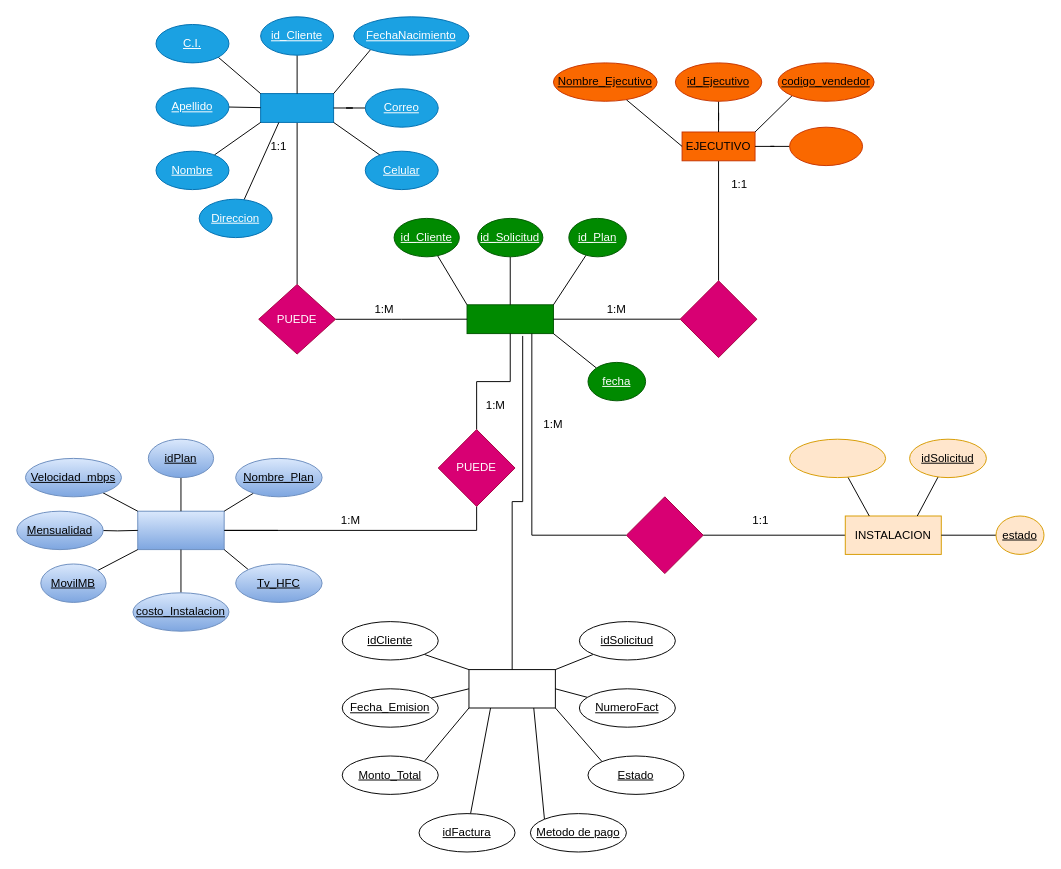
The diagram is 1061 pixels wide and 869 high, and some of its shapes have lost their labels. Here are the shapes that lost their labels. From the top down, the centre of each, then its label:
At point 297,107: "CLIENTE".
At point 826,146: "sucursal".
At point 509,319: "SOLICITUD".
At point 718,319: "PROCEDE".
At point 837,458: "idInstalacion".
At point 180,530: "PLAN HOGAR".
At point 664,535: "REALIZA".
At point 511,688: "FACTURA".
